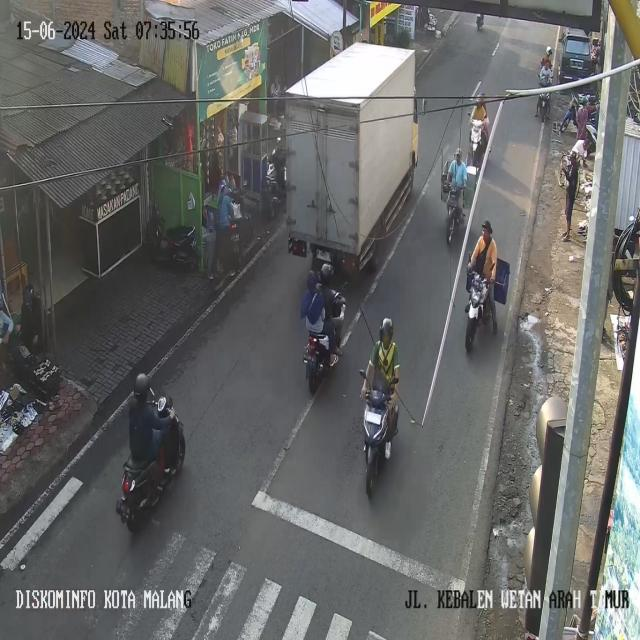Helmet: (133, 373, 149, 399), (379, 318, 392, 341), (320, 263, 333, 285), (23, 284, 34, 306), (482, 220, 492, 233), (476, 93, 485, 105), (579, 96, 587, 105), (588, 95, 596, 104), (546, 46, 552, 56), (455, 148, 461, 157)
Number Plate: (316, 249, 330, 262), (231, 234, 240, 242)
Rearview Mirror: (359, 369, 365, 378), (391, 377, 398, 384)
